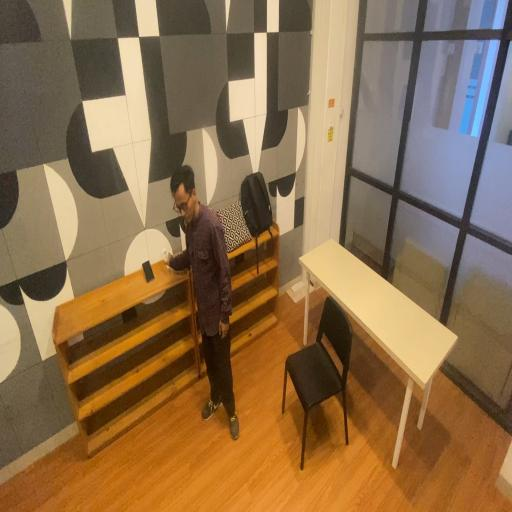bantal: (217, 202, 255, 256)
hp: (142, 257, 156, 284)
kursi: (279, 292, 359, 470)
lemari: (50, 282, 212, 460)
remote AC: (161, 246, 172, 274)
tas ransel: (241, 169, 276, 236)
